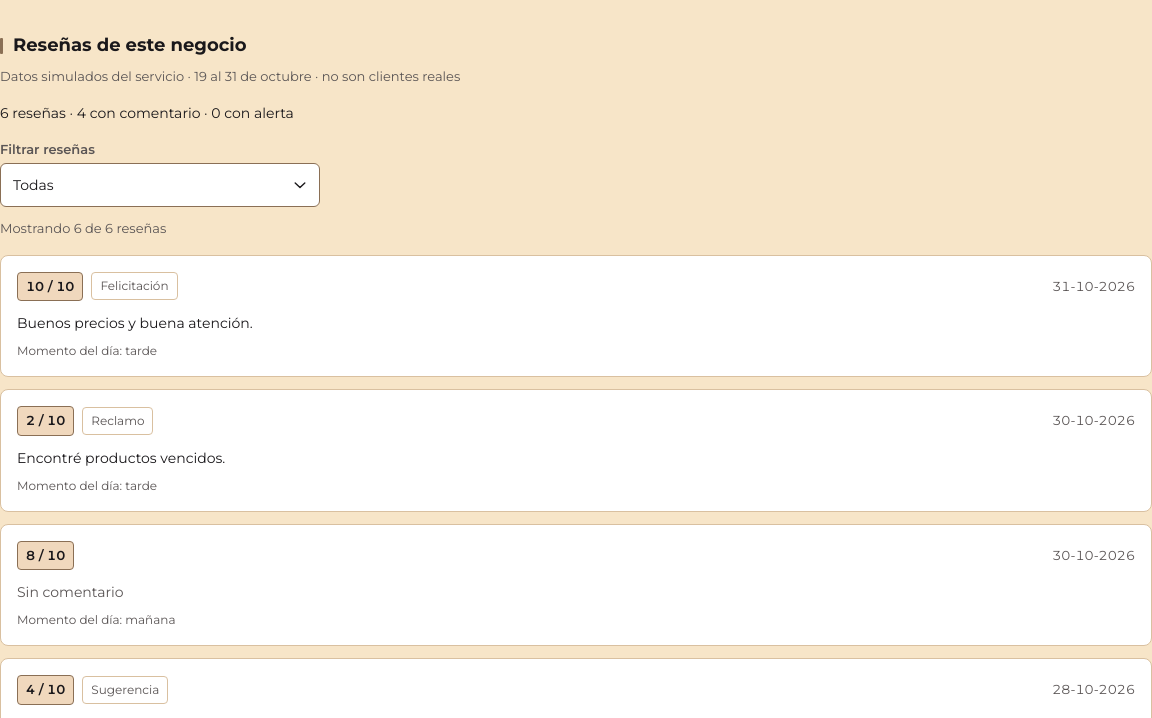
Test: ResenasNegocio contra el servicio › 8. filtro sin resultados (fixture sin alertas) → mensaje de filtro vacío
This screenshot has width=1152, height=718.
Select "Con alerta" in the dropdown labelled "Filtrar reseñas" at (160, 185), box left=0, top=163, right=320, bottom=207
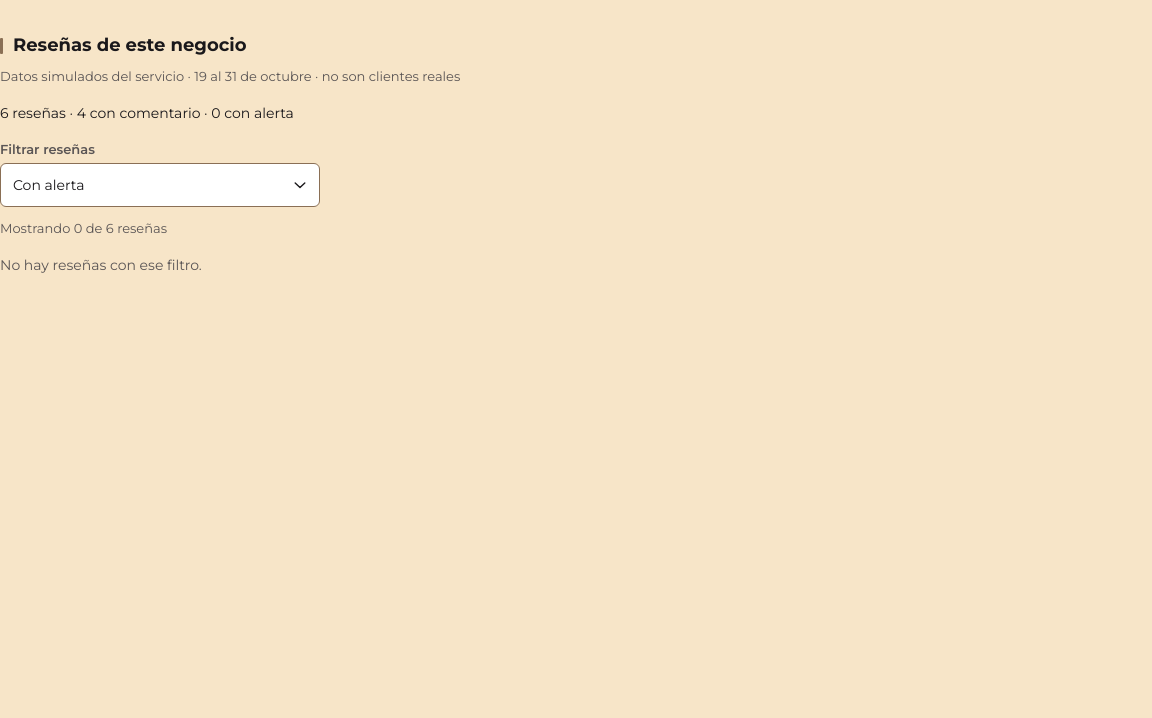
Now the text "Mostrando 0 de 6 reseñas" is shown, box left=0, top=220, right=167, bottom=236
Now the text "No hay reseñas con ese filtro." is shown, box left=0, top=256, right=202, bottom=274
